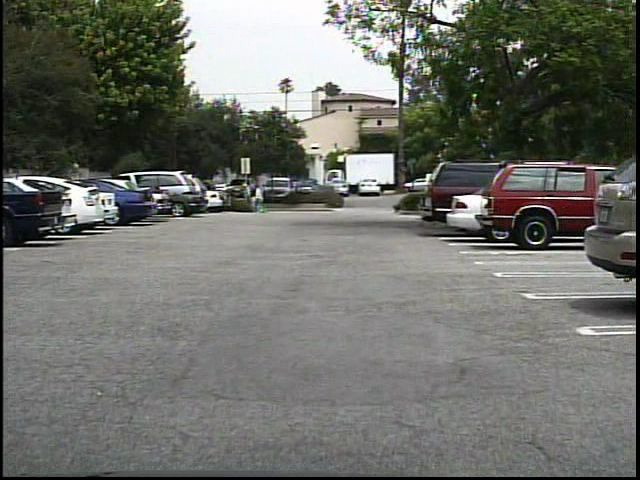person: (239, 180, 254, 209), (254, 182, 267, 214), (253, 184, 254, 215)
